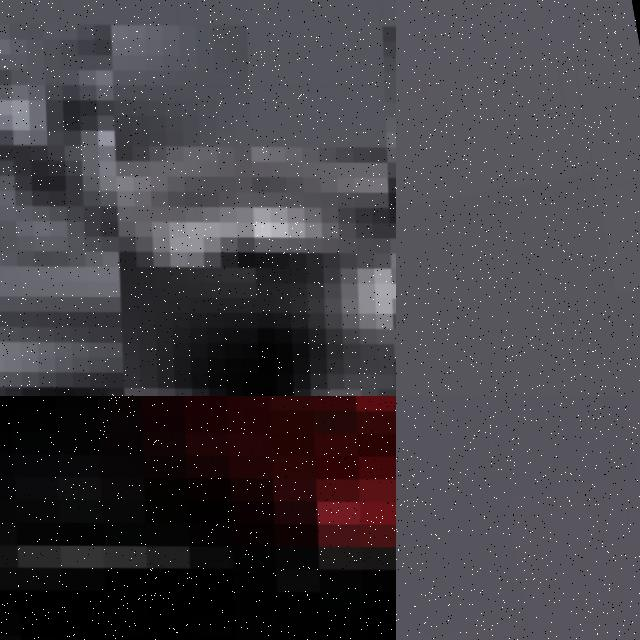drone: (0, 0, 396, 396), (0, 396, 396, 640)
